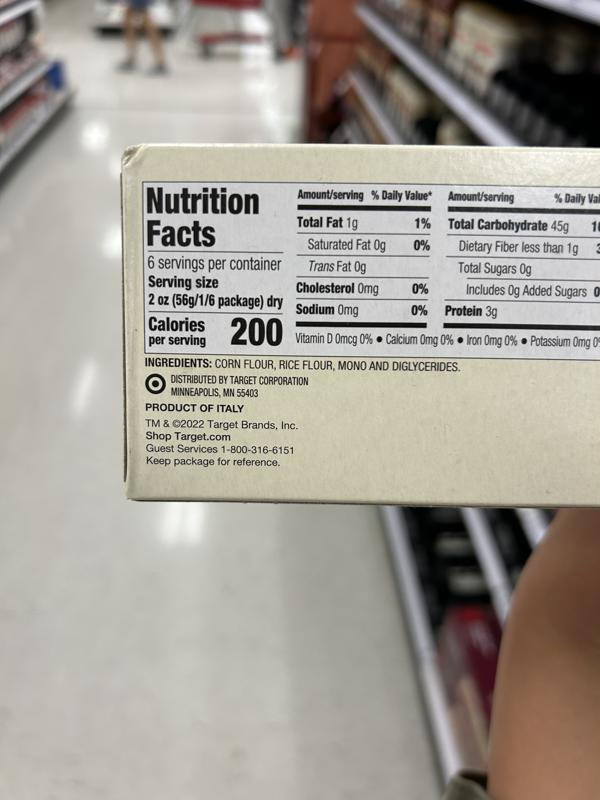ingredients: (143, 355, 462, 375)
